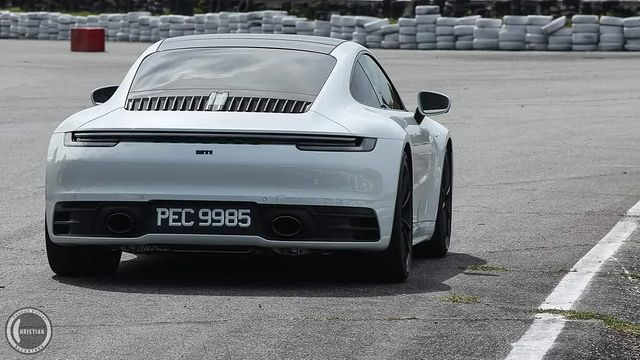License-Plate: (153, 205, 254, 228)
